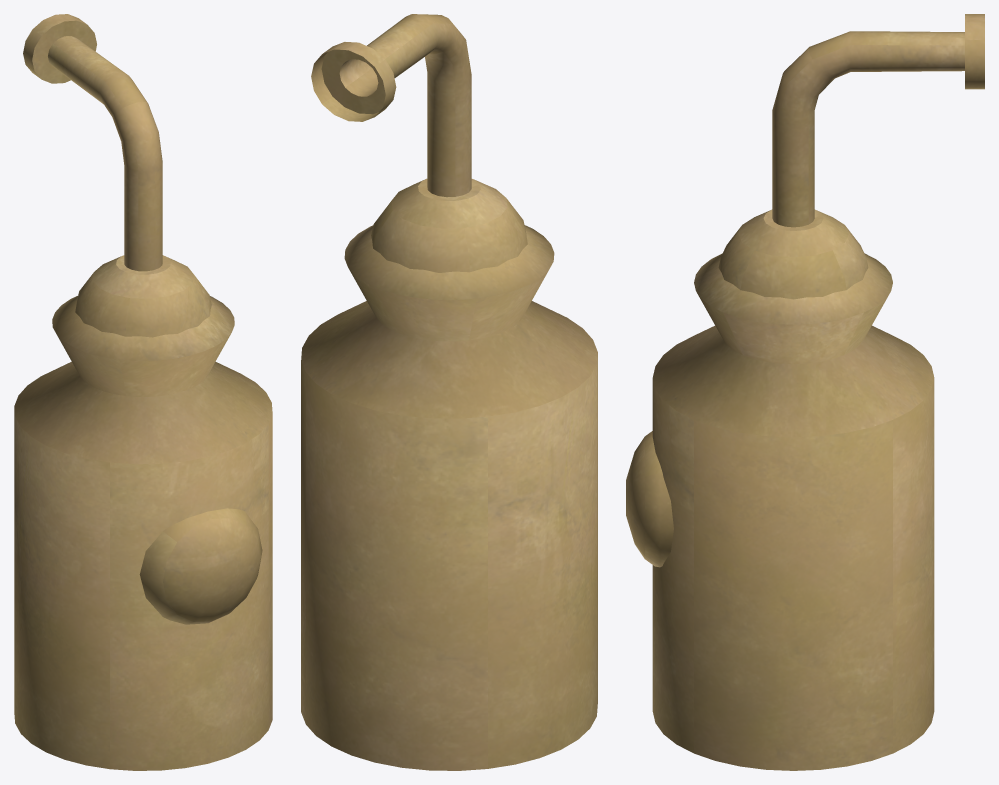
Rendered from Steam_Marchine.FBX.
3 views of the same model, side by side, from view 1: azimuth 30°, elevation 25°; view 2: azimuth 150°, elevation 25°; view 3: azimuth 270°, elevation 25° (orthographic). The views are drawn at different scales.
Bounding box in the file's own units: 32.96 × 42.01 × 89.53.
